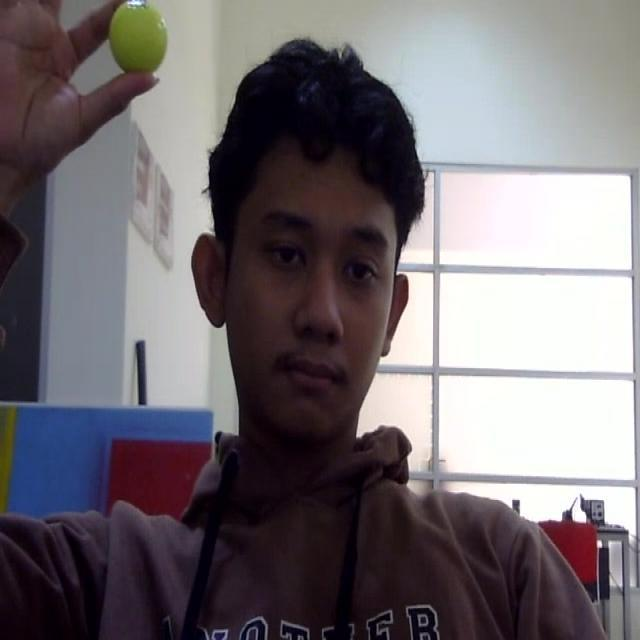golfball: (107, 0, 169, 75)
